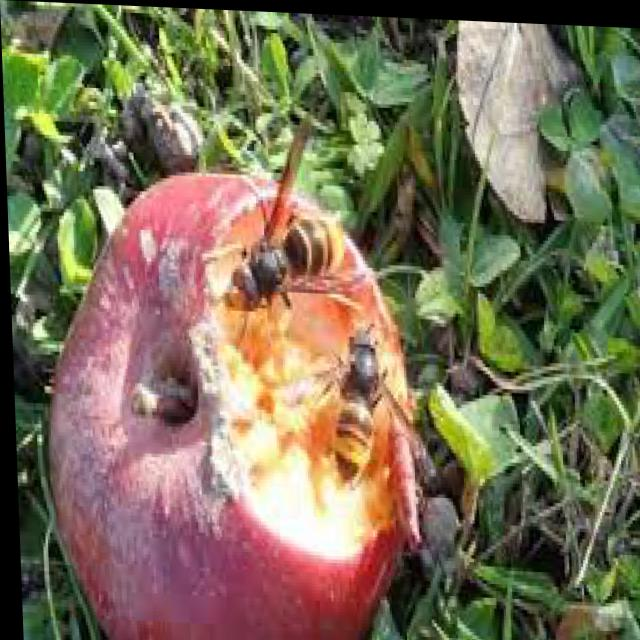Vespa Velutina: (192, 82, 389, 358), (279, 304, 418, 493)
